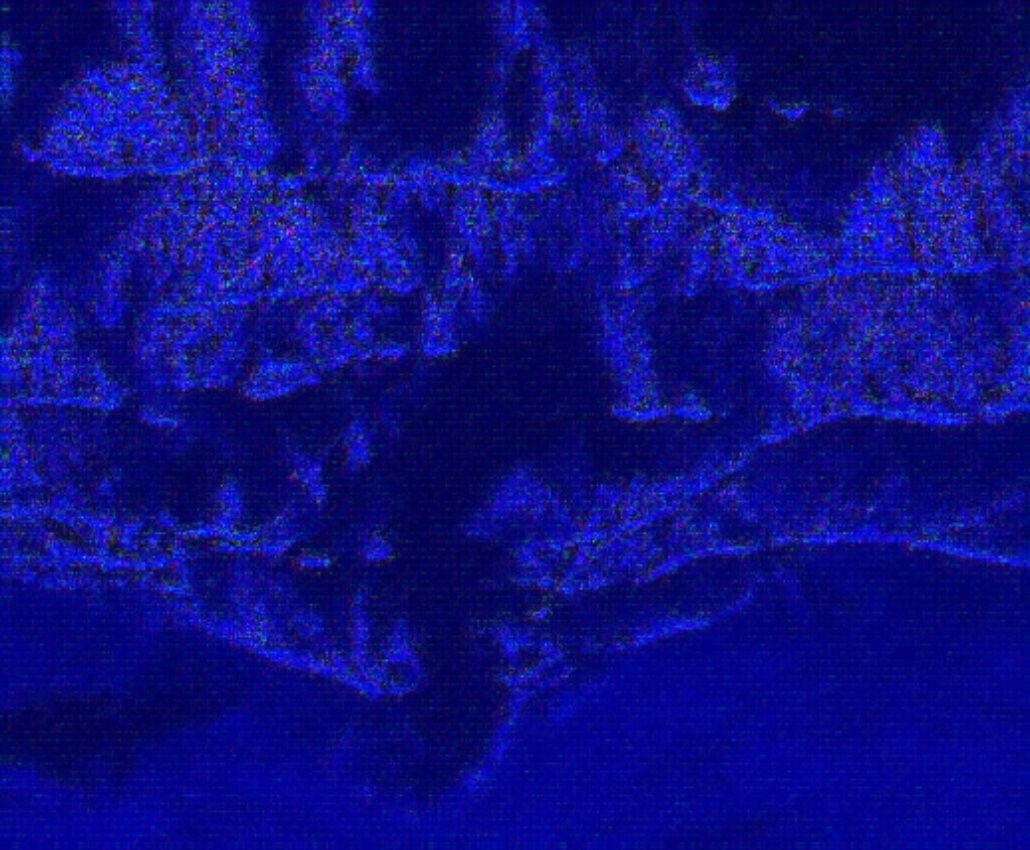rip_current: (257, 179, 674, 682)
